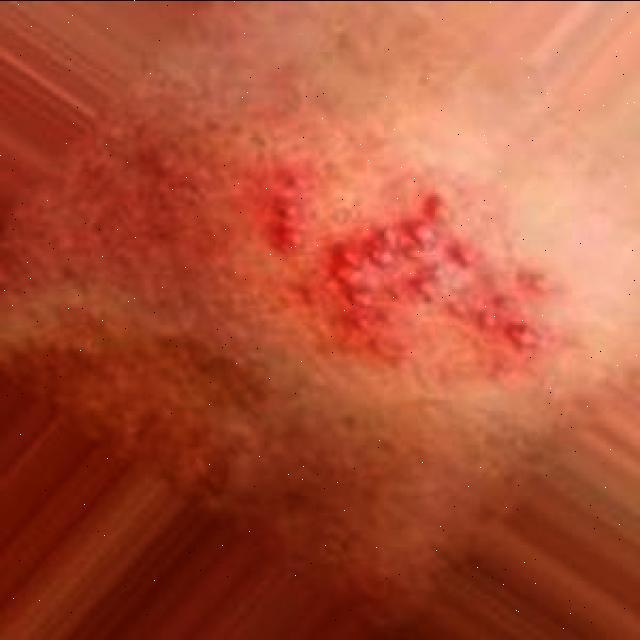Shingles: (272, 171, 547, 352)
